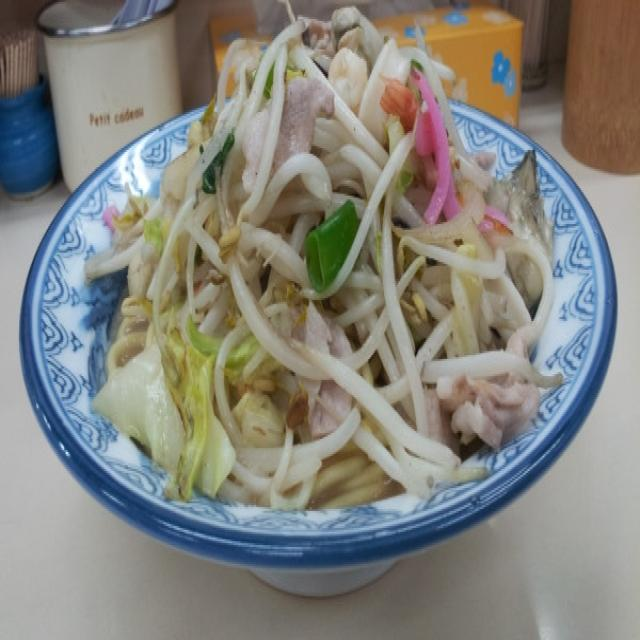带馅早点: (136, 122, 352, 356)
